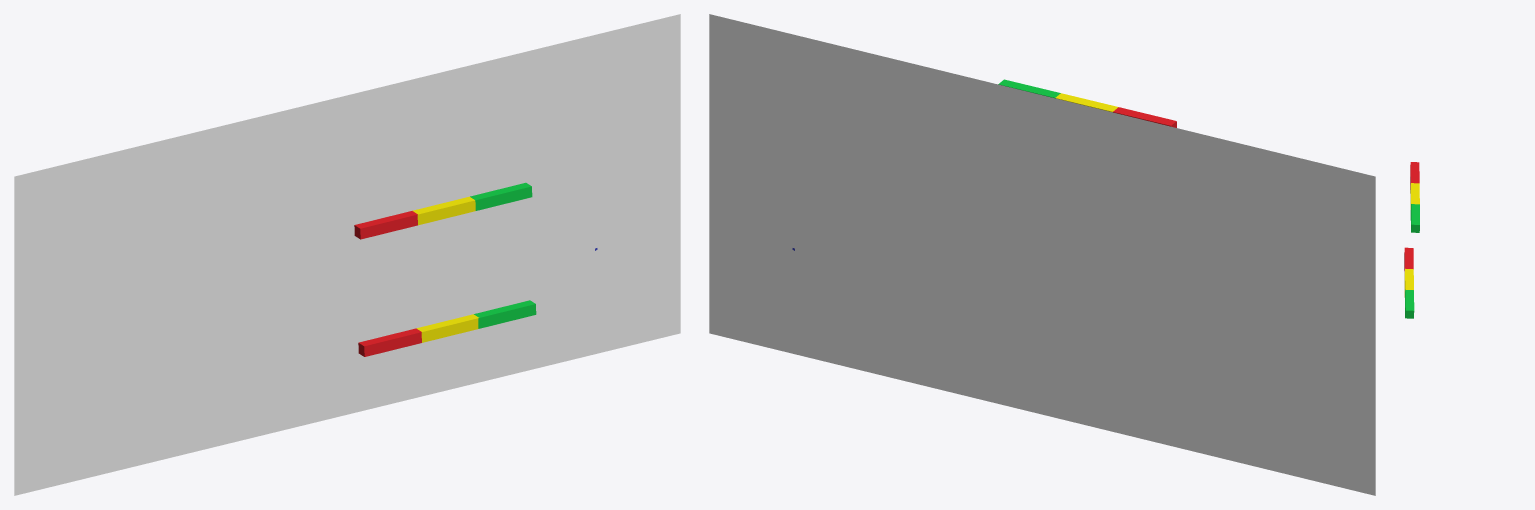
The model's file is gab6.glb.
The picture shows the model from 3 angles, left to right: view 1: azimuth 30°, elevation 25°; view 2: azimuth 150°, elevation 25°; view 3: azimuth 270°, elevation 25°; orthographic projection. The views are drawn at different scales.
Parts seen in each view (by area): view 1: mesh_id1, mesh_id181, mesh_id224, mesh_id222, mesh_id161, mesh_id170, mesh_id223; view 2: mesh_id1; view 3: mesh_id161, mesh_id223, mesh_id224, mesh_id222, mesh_id181, mesh_id170.
Boxes of the visible parts, x1,y1,x2,y2 form: mesh_id1: (14,14,680,495); mesh_id181: (358,328,421,356); mesh_id224: (354,211,417,239); mesh_id222: (412,196,475,225); mesh_id161: (474,300,536,328); mesh_id170: (416,314,478,342); mesh_id223: (470,182,532,210); mesh_id1: (709,14,1375,495); mesh_id161: (1405,289,1414,318); mesh_id223: (1410,204,1419,232); mesh_id224: (1410,162,1419,189); mesh_id222: (1410,183,1419,209); mesh_id181: (1404,247,1413,271); mesh_id170: (1404,268,1413,296).
Bounding box in the file's own units: 1.28 × 0.588 × 0.2597.
4 materials, 4 textured.
